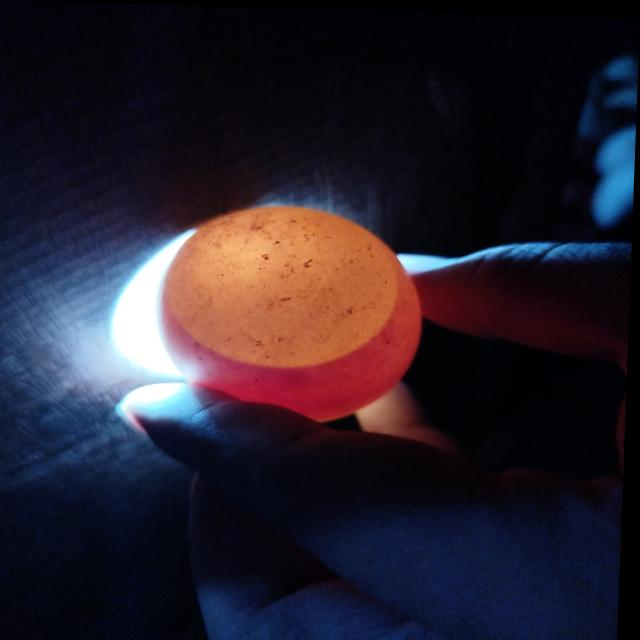Camara de Ar: (166, 205, 400, 366)
Gema Quebrada: (160, 239, 424, 418)
